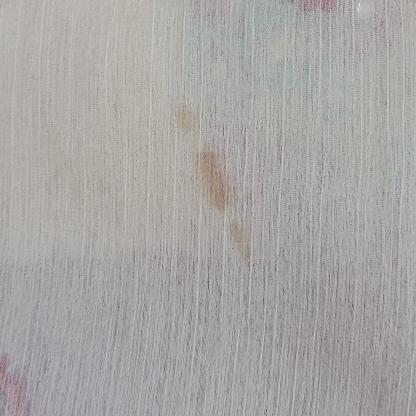spot: (196, 151, 239, 214), (228, 220, 261, 264), (173, 102, 204, 143)
